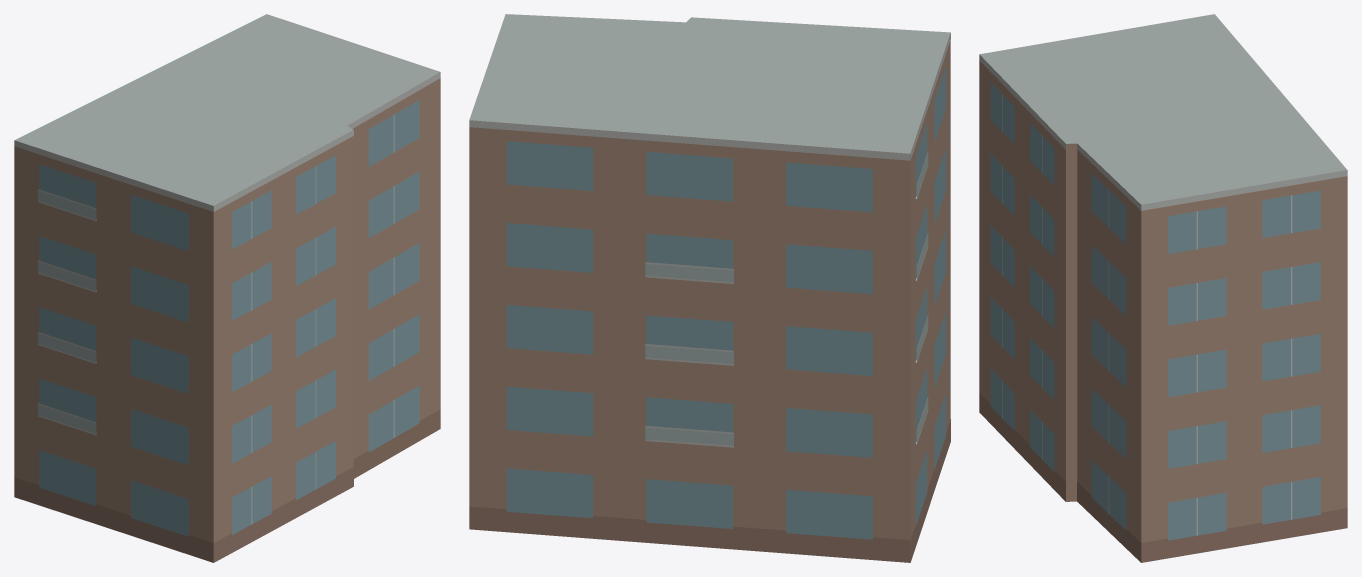
The model's file is survey-upis-32864429.glb.
3 views of the same model, side by side, from view 1: azimuth 30°, elevation 25°; view 2: azimuth 150°, elevation 25°; view 3: azimuth 270°, elevation 25° (orthographic). The views are drawn at different scales.
Parts seen in each view (by area): view 1: survey-upis-32864429.tmp; view 2: survey-upis-32864429.tmp; view 3: survey-upis-32864429.tmp.
Part boxes in pixels (x1,y1,x2,y2): survey-upis-32864429.tmp: [14, 14, 440, 562]; survey-upis-32864429.tmp: [469, 14, 950, 562]; survey-upis-32864429.tmp: [979, 14, 1347, 562].
Bounding box in the file's own units: 16.53 × 14.45 × 13.48.
